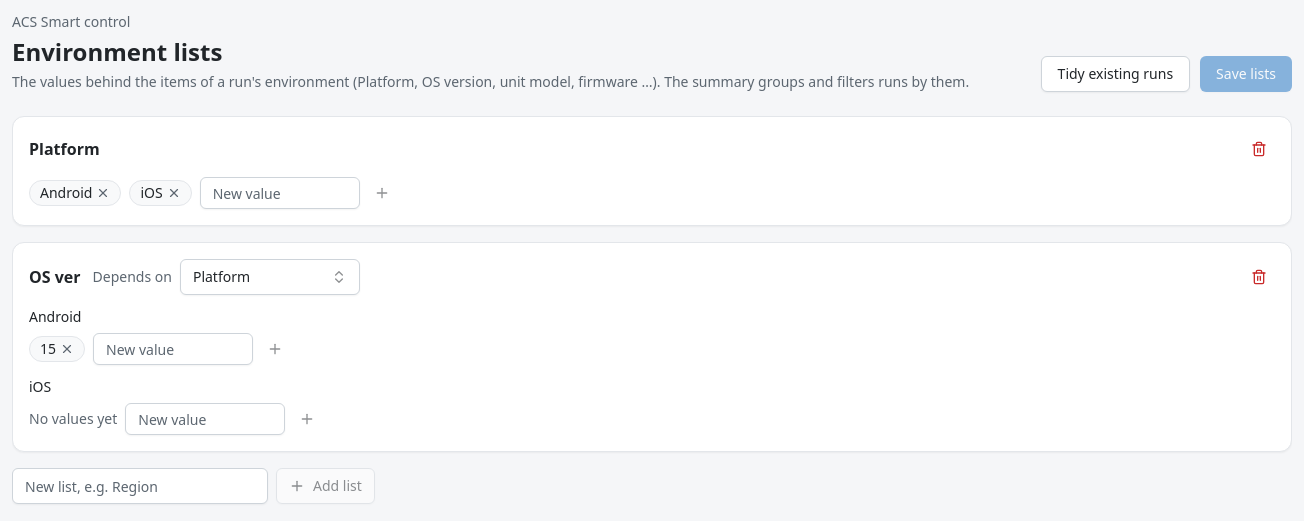
Scenario: EnvListsPage › edits the values of a list under its parent value and saves the change
The width and height of the screenshot is (1304, 521).
Later steps or results of the test are not shown.
Step 1. Type "18" into the field named "Add value to OS ver of iOS" → (205, 419), box [125, 403, 285, 435]
Then press Enter
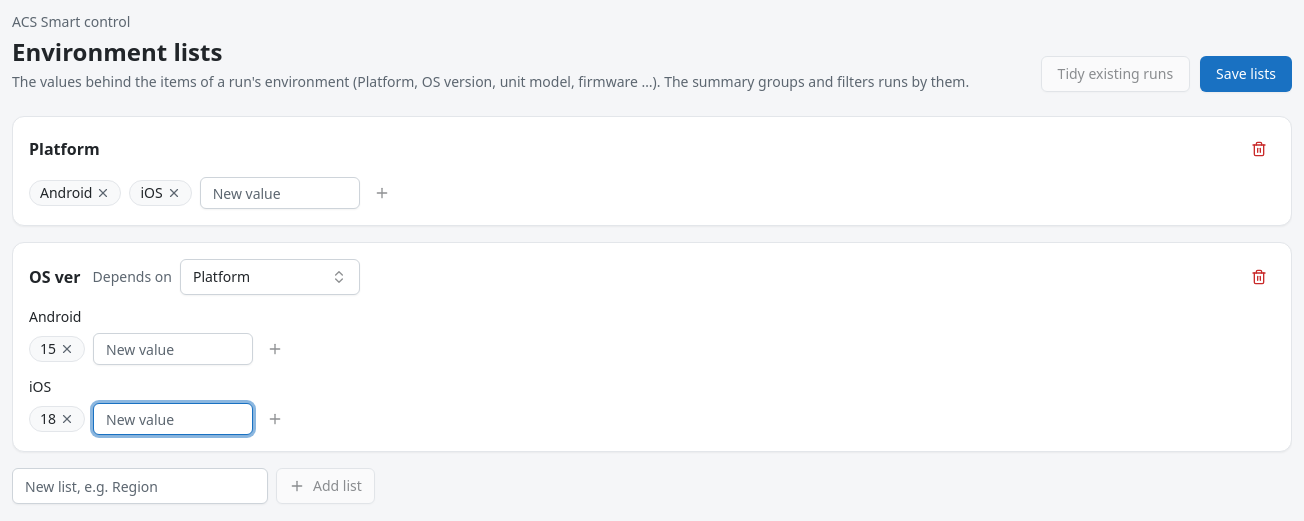
Check: the text "18" is shown, box [29, 406, 85, 432]
Check: the button "Save lists" is enabled, box [1200, 56, 1292, 92]
